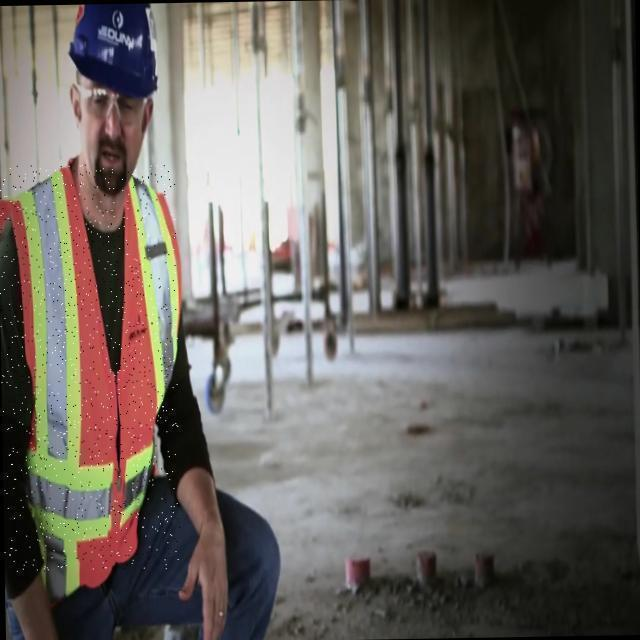helmet: (59, 1, 168, 104)
vest: (0, 163, 181, 572)
